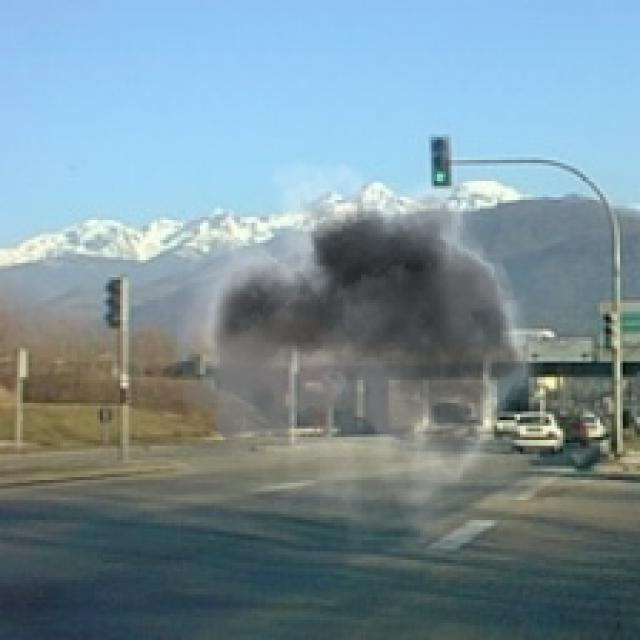Smoke: (177, 139, 557, 552)
